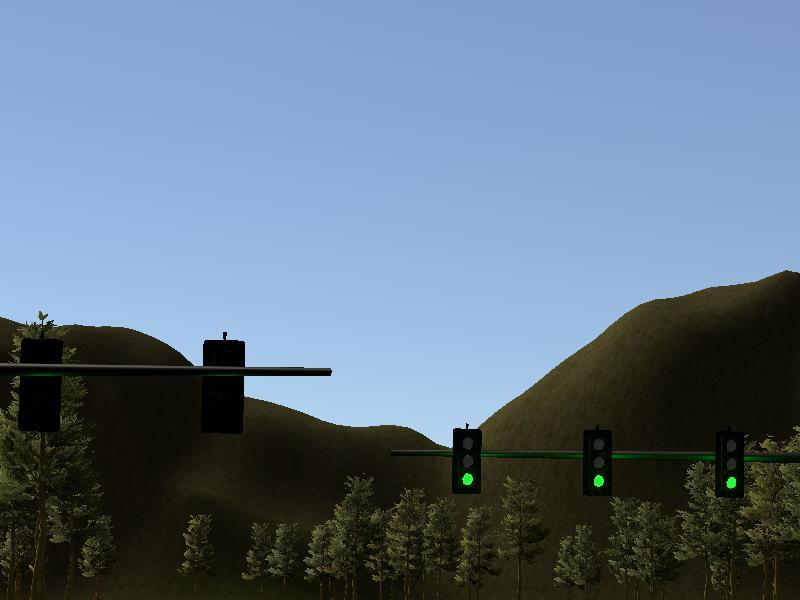Green: (716, 432, 744, 497), (584, 430, 611, 496), (453, 428, 479, 494)
